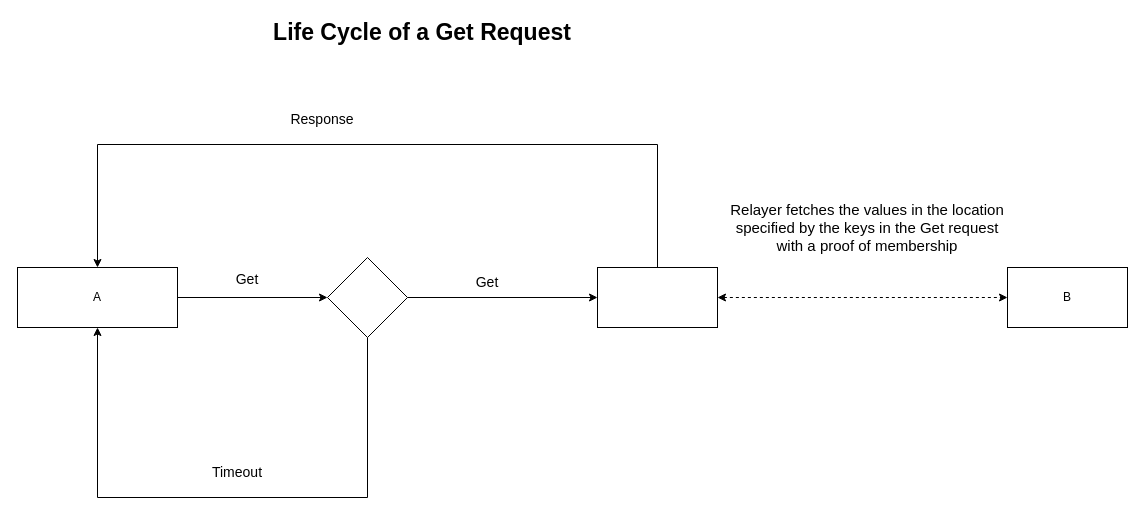
The diagram is 1145 pixels wide and 523 high, and some of its shapes have lost their labels. Each missing label, with the centre of its shape:
Relayer: (657,297)
Timeout?: (367,297)
